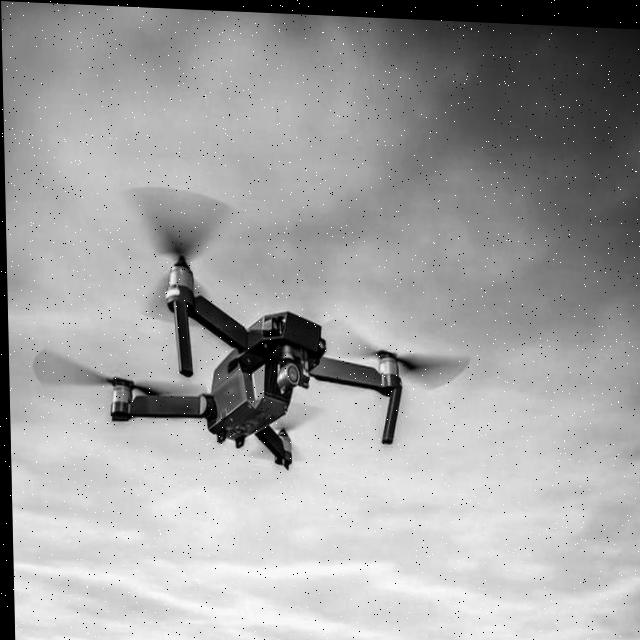drone: (34, 203, 454, 470)
